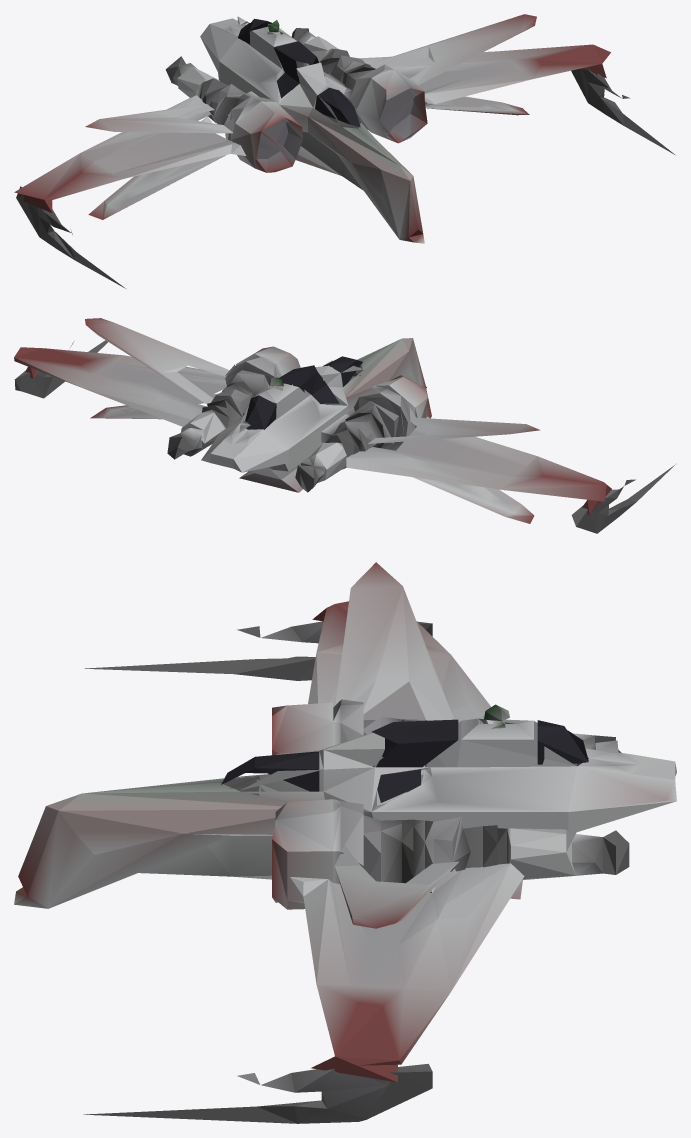
File: arc170.glb
3 renders of one model, top to bottom at view 1: azimuth 30°, elevation 25°; view 2: azimuth 150°, elevation 25°; view 3: azimuth 270°, elevation 25°, orthographic. The views are drawn at different scales.
Parts seen in each view (by area): view 1: arc170; view 2: arc170; view 3: arc170.
Boxes of the visible parts, left/top/right/bottom form: arc170: left=14, top=14, right=674, bottom=288; arc170: left=14, top=318, right=676, bottom=533; arc170: left=14, top=562, right=676, bottom=1123.
Size of the model in its own units: 29.53 by 5.66 by 17.34.
